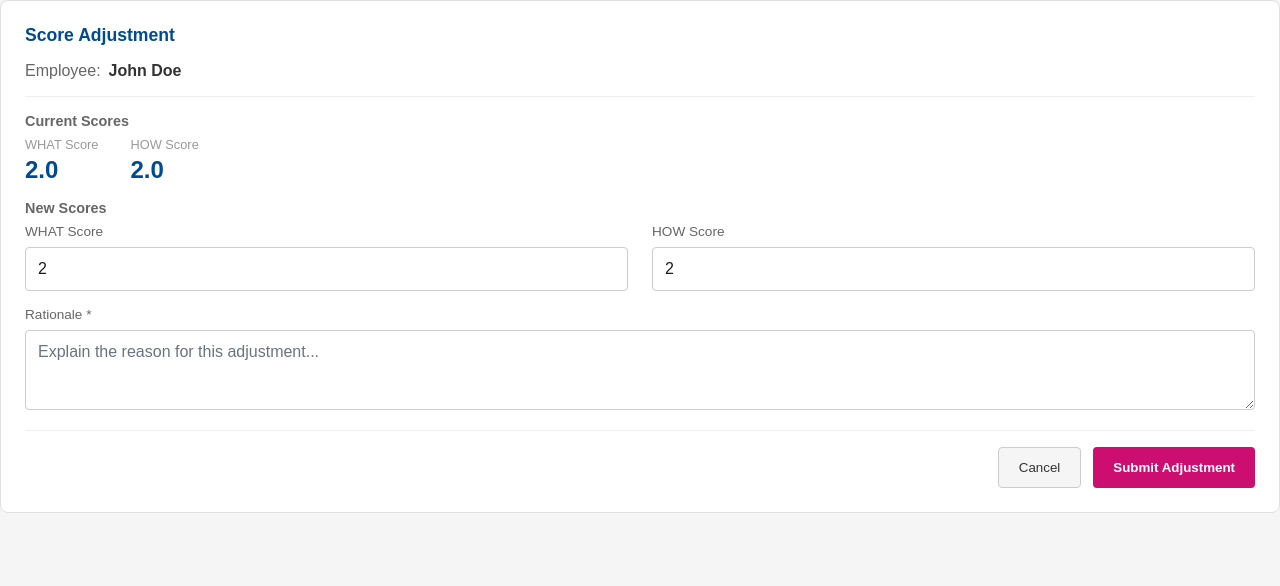
ScoreAdjustmentPanel › no changes validation › should show message when no score changes made
The width and height of the screenshot is (1280, 586).
Don't change any scores, just add rationale and submit
In the text box named "rationale": [640, 370] box 25,330 -> 1255,410, type "Test"
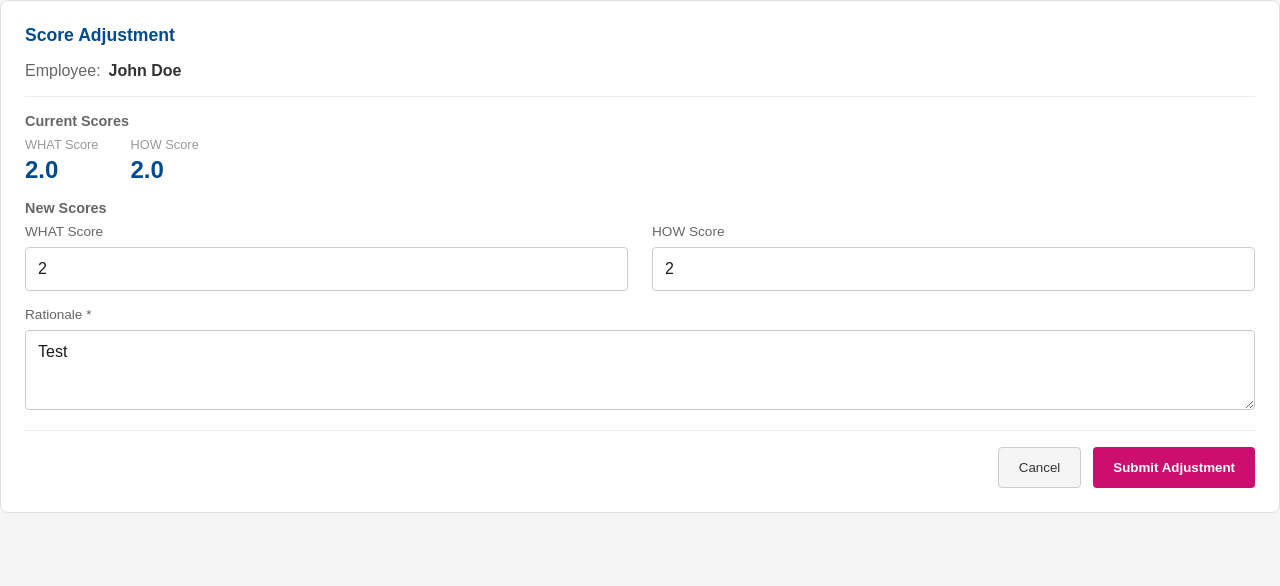
Submit the form, box 25,200 -> 1255,488
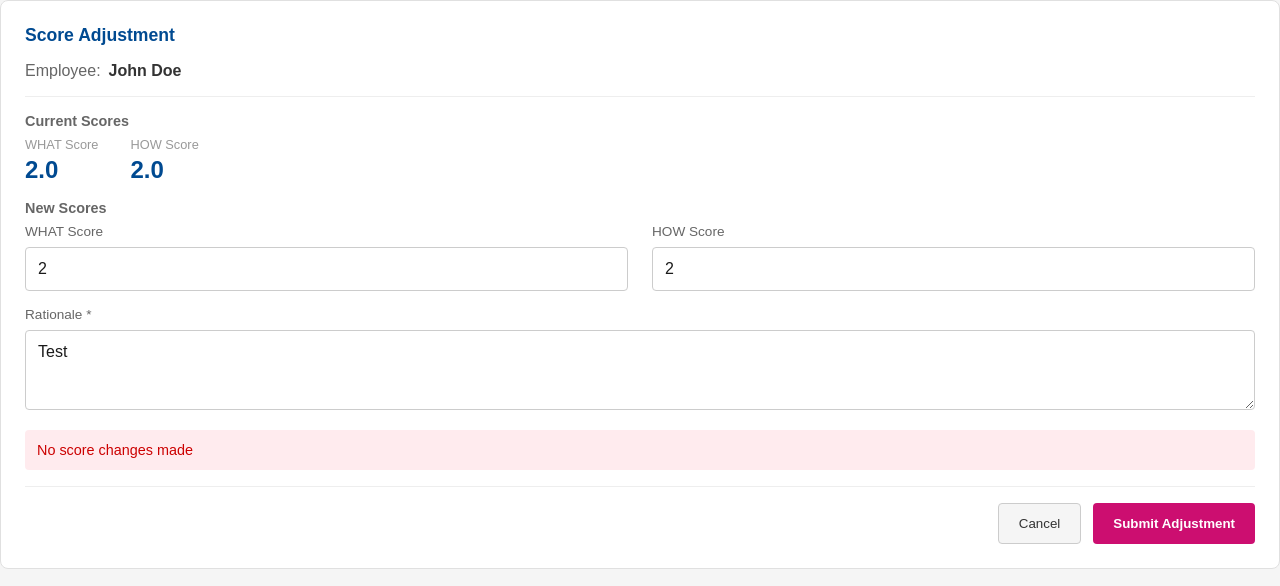
Expected: the text "No score changes made" is shown, 25,430 -> 1255,470
